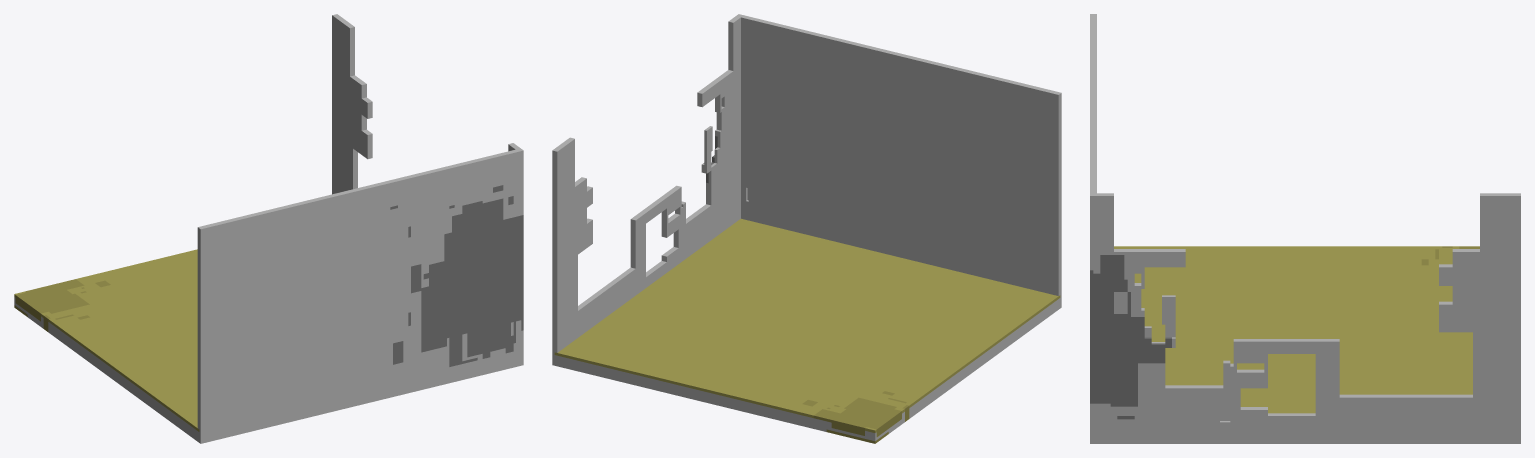
Rendered from 2x2 first (des)-3.obj.
The picture shows the model from 3 angles, left to right: view 1: azimuth 30°, elevation 25°; view 2: azimuth 150°, elevation 25°; view 3: azimuth 270°, elevation 25°; orthographic projection. The views are drawn at different scales.
Parts seen in each view (by area): view 1: 2x2 first (des)-3; view 2: 2x2 first (des)-3; view 3: 2x2 first (des)-3.
Part boxes in pixels (<box>): 2x2 first (des)-3: <box>14,14,523,443</box>; 2x2 first (des)-3: <box>552,14,1061,443</box>; 2x2 first (des)-3: <box>1090,14,1520,443</box>.
Bounding box in the file's own units: 126 × 80 × 126.
1 material, 1 textured.
